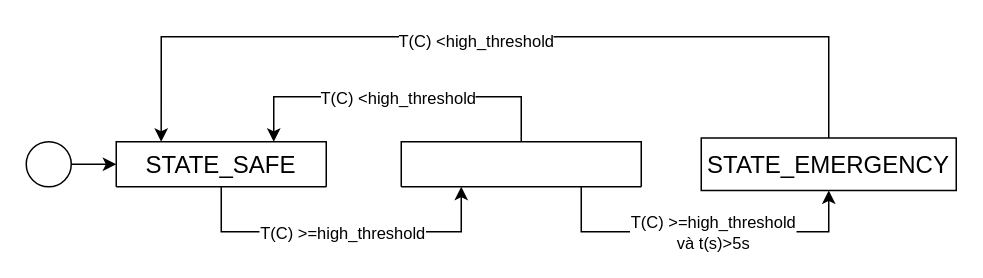
Image size: 983x278. Some labels were removed from this diagram. The centre of each missing label's shape, as x and y in pixels:
"Start" goes at (48,163).
"STATE_WARNING" goes at (520,163).
